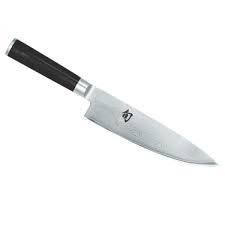kuchillu: (2, 31, 220, 173)
